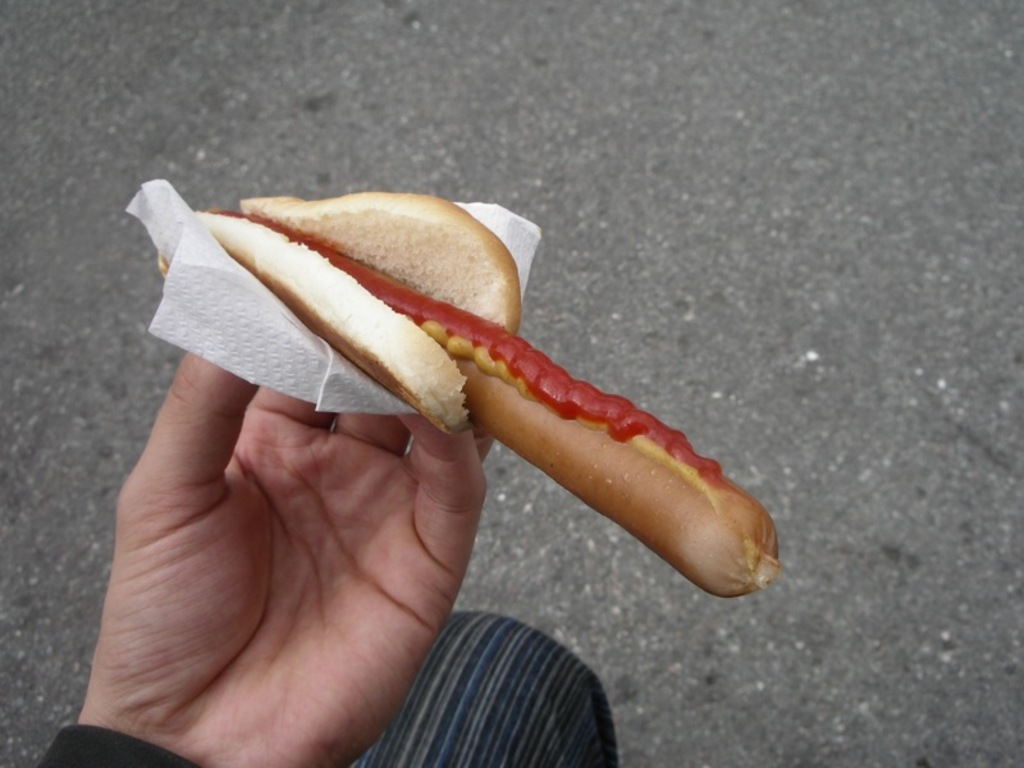sandwich: (155, 186, 780, 598)
